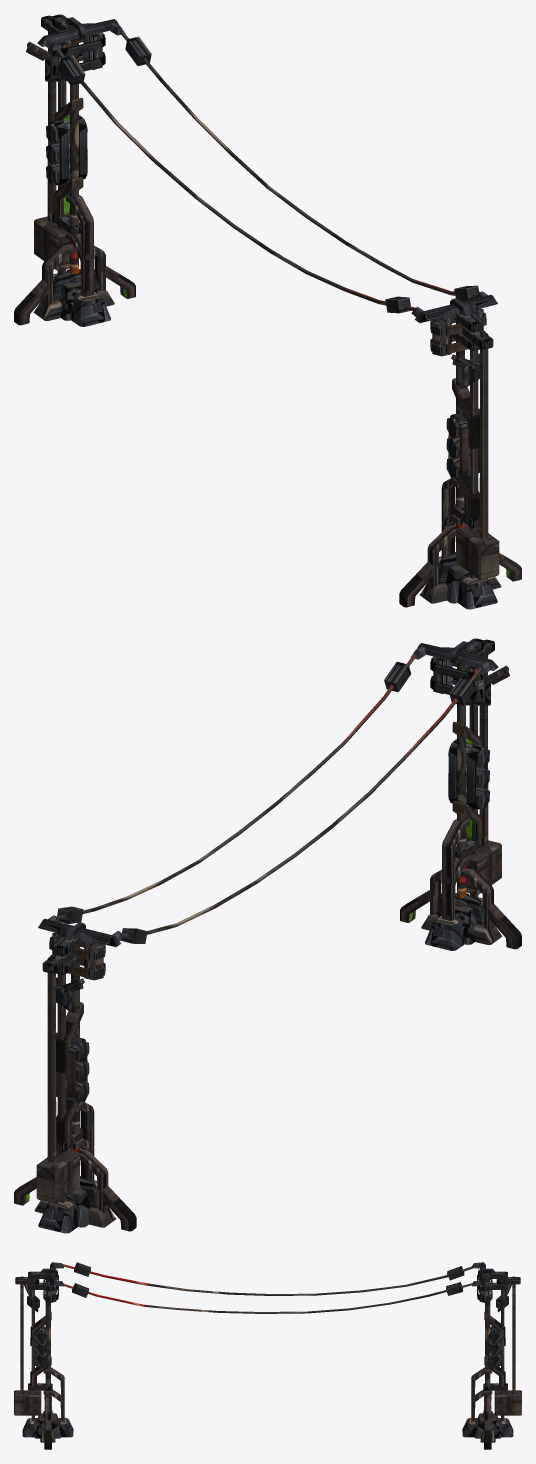
Rendered from SM_EN_1002_gangjia02.FBX.
The picture shows the model from 3 angles, top to bottom: view 1: azimuth 30°, elevation 25°; view 2: azimuth 150°, elevation 25°; view 3: azimuth 270°, elevation 25°; orthographic projection. The views are drawn at different scales.
Visible parts, largest first — view 1: SM_EN_1002_gangjia02; view 2: SM_EN_1002_gangjia02; view 3: SM_EN_1002_gangjia02.
Part boxes in pixels (x1,y1,x2,y2): SM_EN_1002_gangjia02: [14, 14, 521, 609]; SM_EN_1002_gangjia02: [14, 638, 521, 1233]; SM_EN_1002_gangjia02: [14, 1262, 521, 1449].
Bounding box in the file's own units: 49.79 × 116 × 327.
